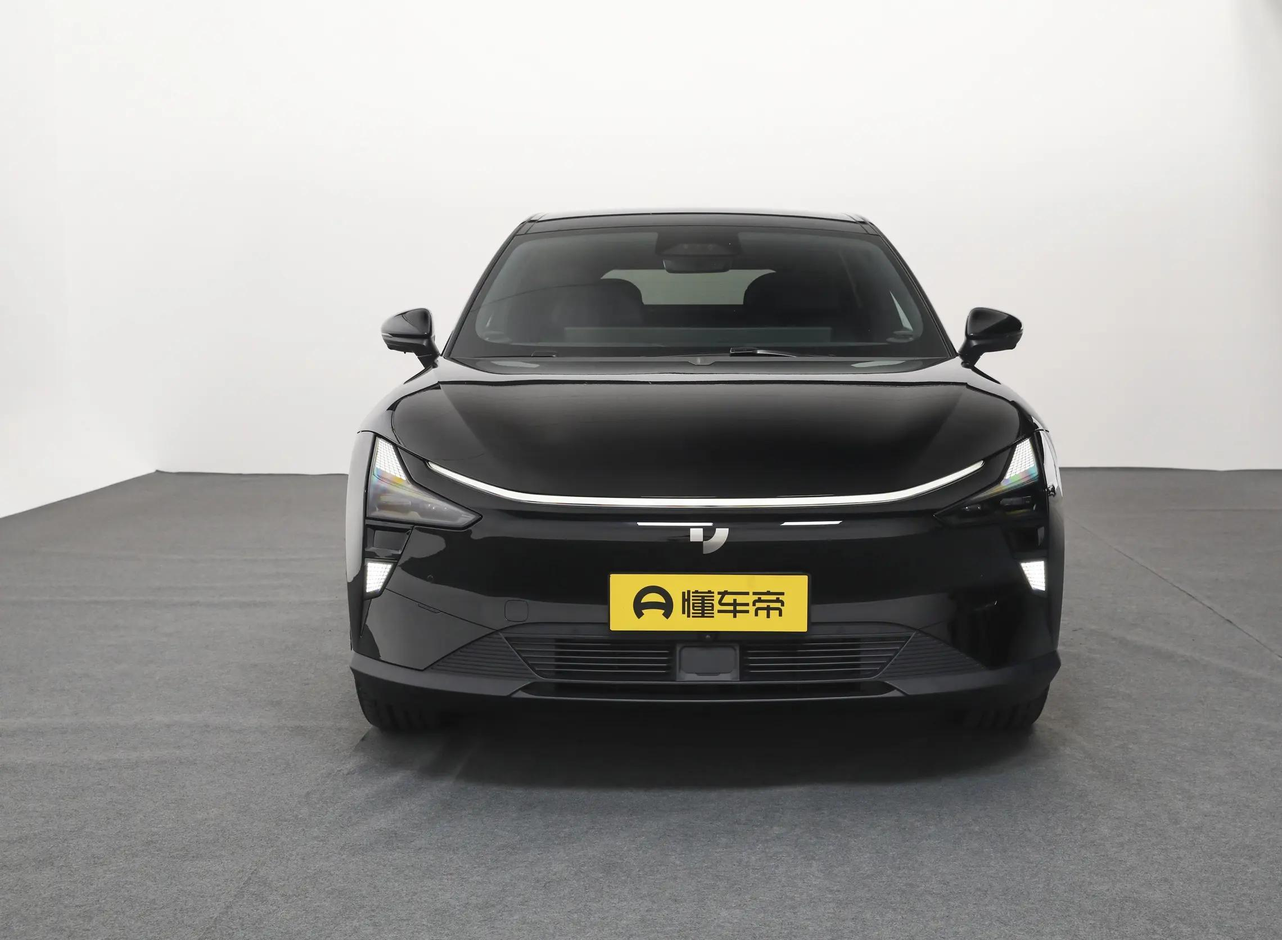JIYUE: (690, 527, 729, 554)
